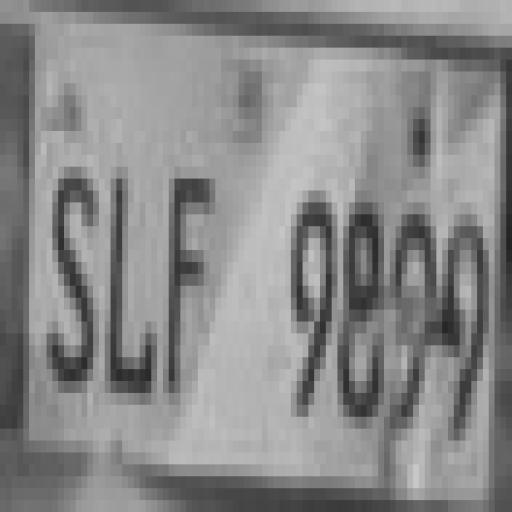8: (344, 200, 379, 416)
9: (436, 213, 492, 420), (285, 196, 336, 419), (393, 218, 434, 406)
F: (167, 178, 220, 404)
L: (101, 156, 155, 410)
S: (49, 180, 95, 390)
